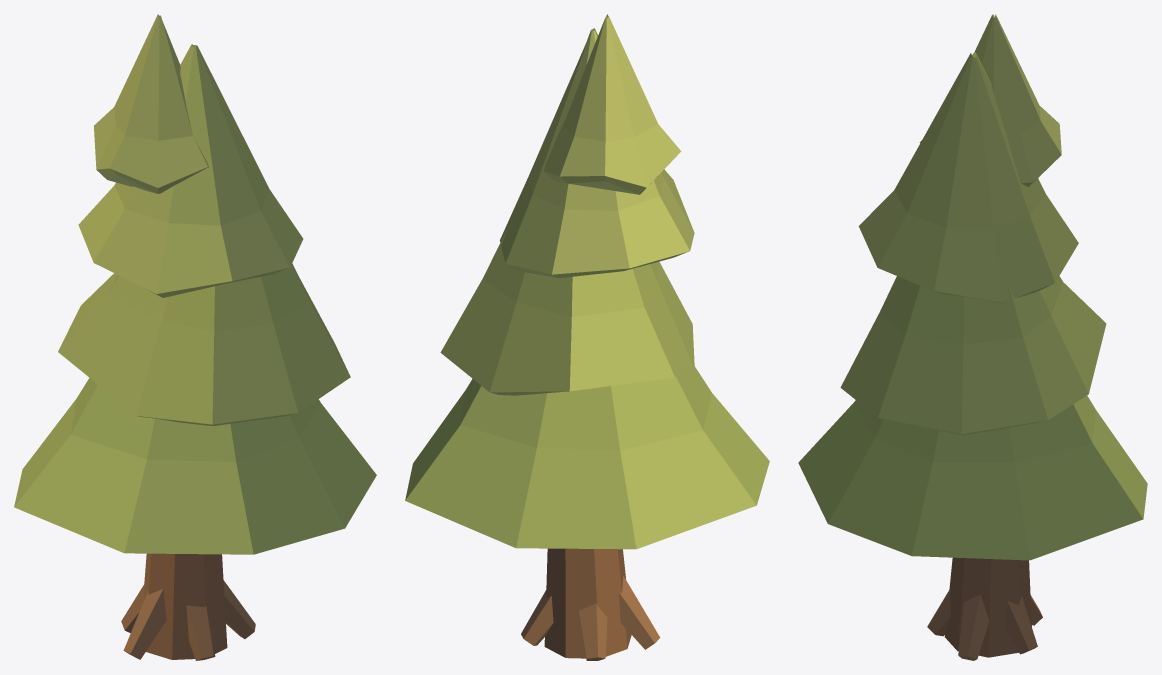
File: forage_2_summer.glb
The picture shows the model from 3 angles, left to right: view 1: azimuth 30°, elevation 25°; view 2: azimuth 150°, elevation 25°; view 3: azimuth 270°, elevation 25°; orthographic projection. The views are drawn at different scales.
Parts seen in each view (by area): view 1: Rohstoff 2 · summer; view 2: Rohstoff 2 · summer; view 3: Rohstoff 2 · summer.
Part boxes in pixels (x1=…): Rohstoff 2 · summer: x1=14, y1=14, x2=376, y2=660; Rohstoff 2 · summer: x1=405, y1=14, x2=769, y2=660; Rohstoff 2 · summer: x1=798, y1=14, x2=1147, y2=660.
Size of the model in its own units: 2.64 by 4.95 by 2.55.
